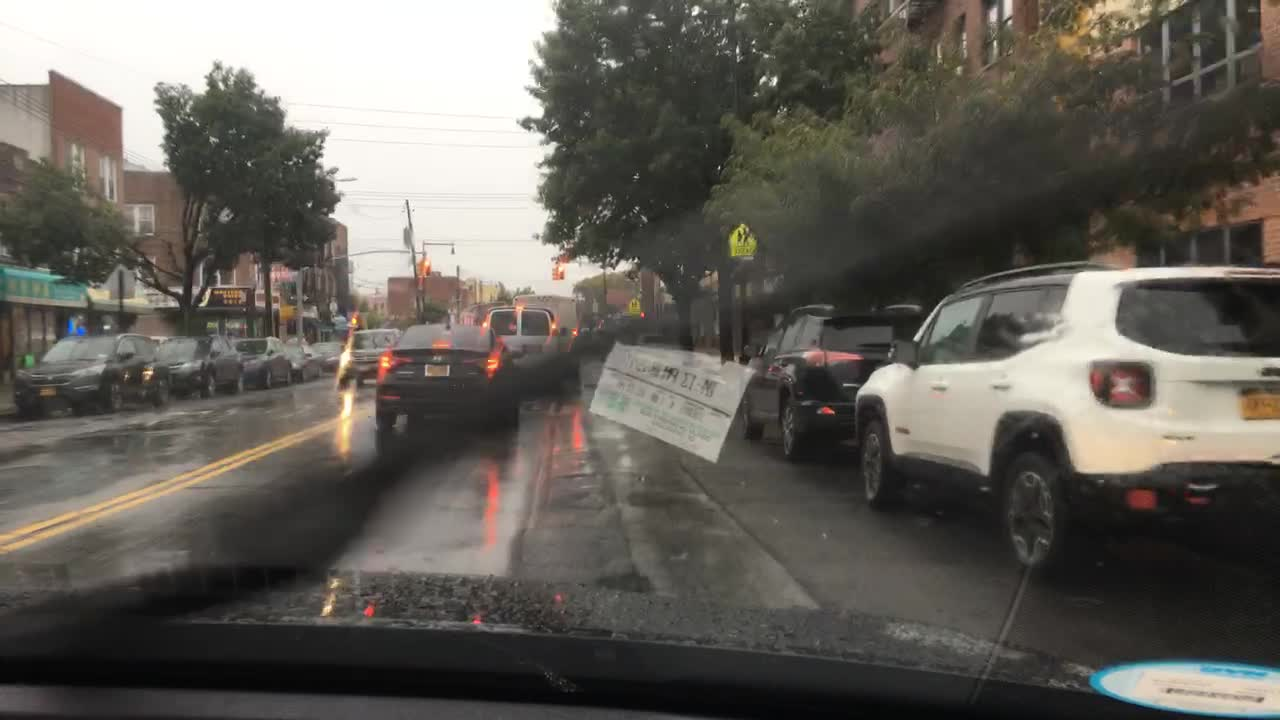car: (853, 255, 1277, 575), (737, 303, 949, 464), (377, 319, 525, 431), (10, 329, 166, 414), (520, 295, 584, 389), (486, 306, 560, 384), (162, 336, 248, 393), (336, 326, 410, 385), (240, 338, 295, 385), (284, 340, 314, 375), (310, 338, 338, 366)
traffic light: (417, 257, 430, 279)
traffic sign: (725, 224, 757, 262), (625, 297, 640, 314)
